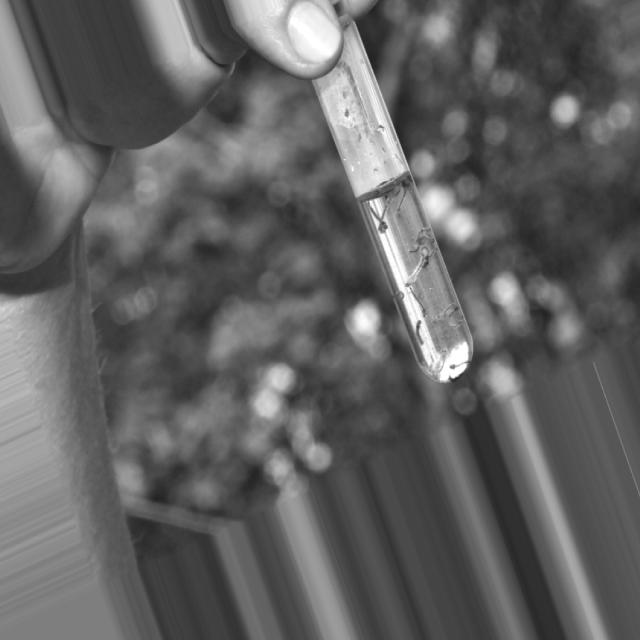larvas: (429, 301, 455, 327), (409, 285, 428, 318), (368, 203, 388, 232), (445, 305, 465, 334), (404, 258, 424, 287), (432, 348, 450, 378), (377, 198, 390, 235), (395, 188, 410, 220), (413, 319, 426, 348), (449, 358, 472, 372), (424, 248, 437, 269), (417, 228, 430, 242), (422, 232, 434, 244), (392, 290, 404, 300), (408, 244, 418, 255), (421, 246, 430, 257)
